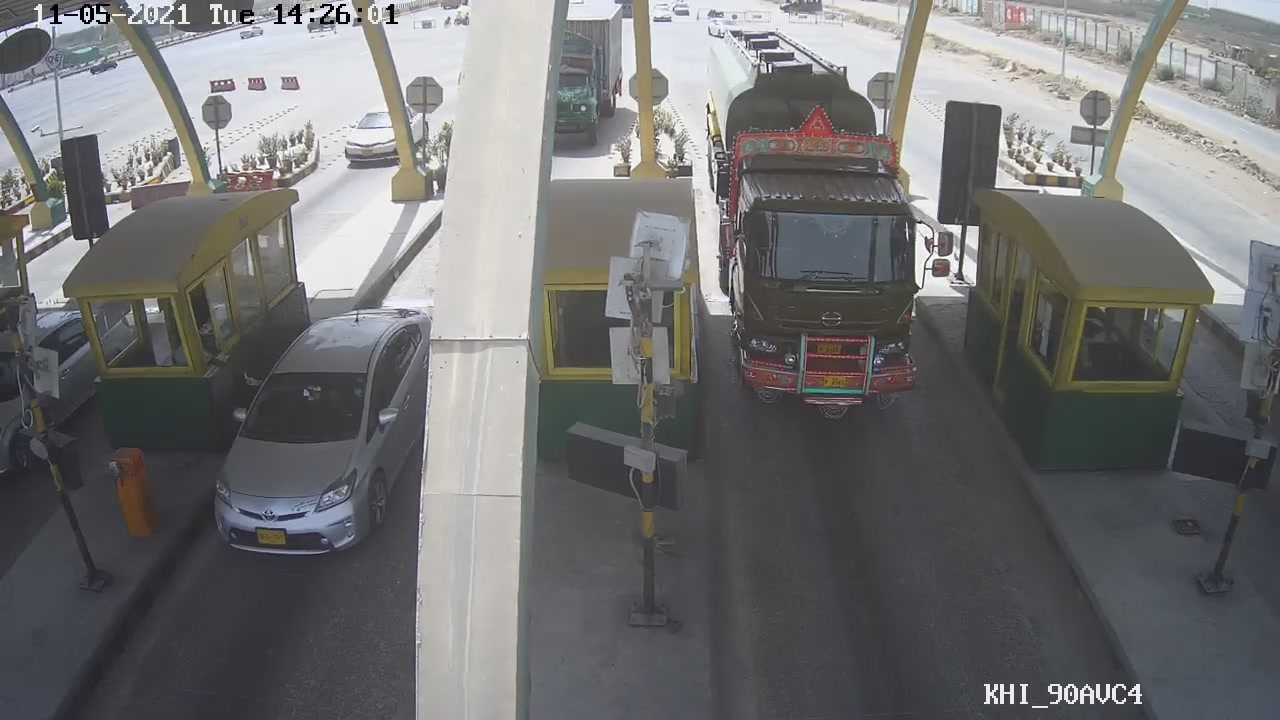F6: (707, 29, 930, 425)
